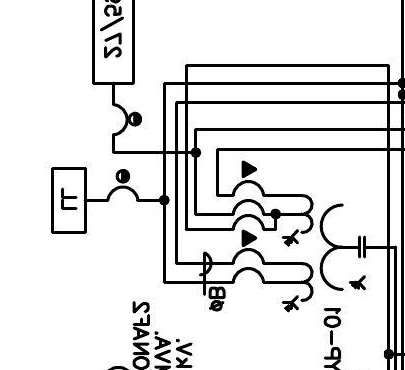115_cvt_3p: (281, 193, 366, 313)
LL: (51, 167, 87, 234)
